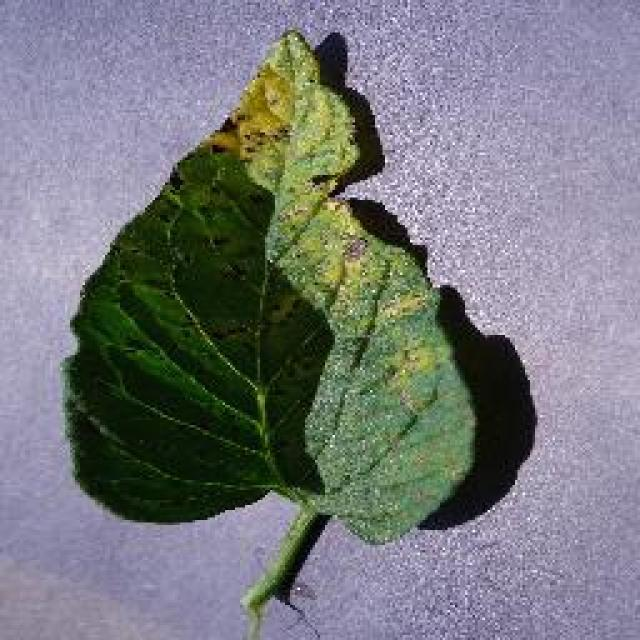Tomato Septoria spot leaf: (61, 32, 477, 550)
